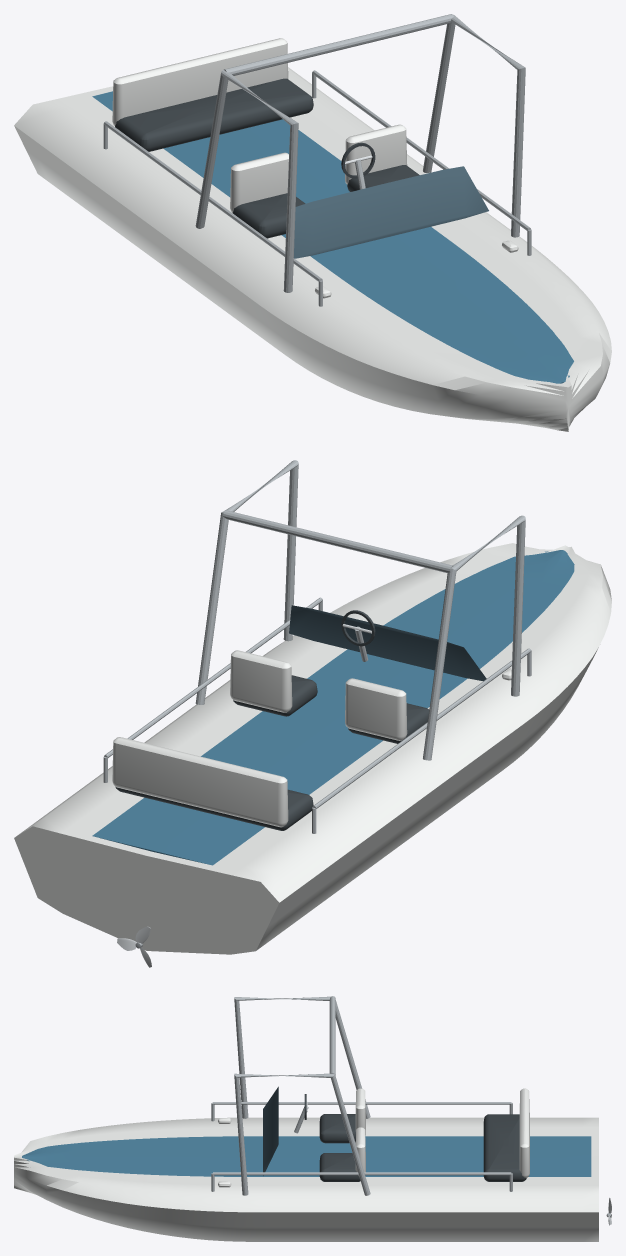
File: stingray.glb
3 views of the same model, one above another, from view 1: azimuth 30°, elevation 25°; view 2: azimuth 150°, elevation 25°; view 3: azimuth 270°, elevation 25° (orthographic). The views are drawn at different scales.
Parts seen in each view (by area): view 1: wakeboard-boat; view 2: wakeboard-boat; view 3: wakeboard-boat.
Boxes of the visible parts, x1,y1,x2,y2 form: wakeboard-boat: [14, 14, 611, 431]; wakeboard-boat: [14, 460, 611, 954]; wakeboard-boat: [14, 996, 598, 1241].
Size of the model in its own units: 2.43 by 2.46 by 6.85.
